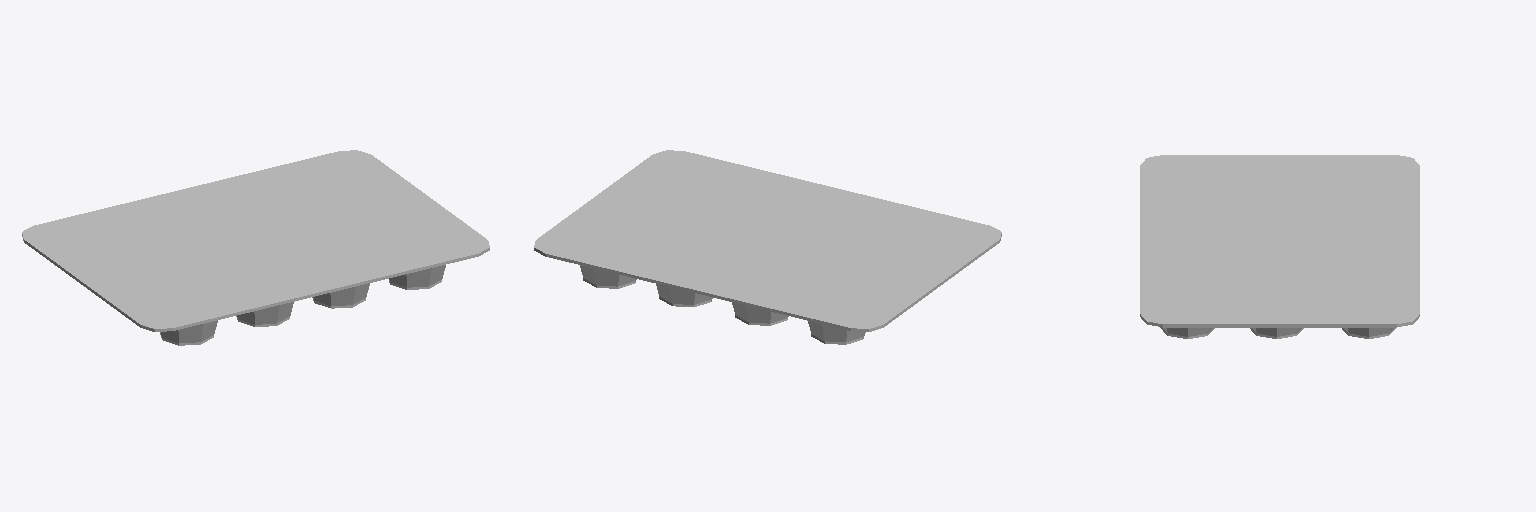
File: muffin_tray.obj
3 renders of one model, left to right at view 1: azimuth 30°, elevation 25°; view 2: azimuth 150°, elevation 25°; view 3: azimuth 270°, elevation 25°, orthographic.
Parts seen in each view (by area): view 1: muffin_tray_Cube.021; view 2: muffin_tray_Cube.021; view 3: muffin_tray_Cube.021.
Boxes of the visible parts, x1,y1,x2,y2 form: muffin_tray_Cube.021: [22, 150, 489, 345]; muffin_tray_Cube.021: [534, 150, 1001, 344]; muffin_tray_Cube.021: [1140, 155, 1419, 338].
Size of the model in its own units: 9.06 by 0.8141 by 6.31.